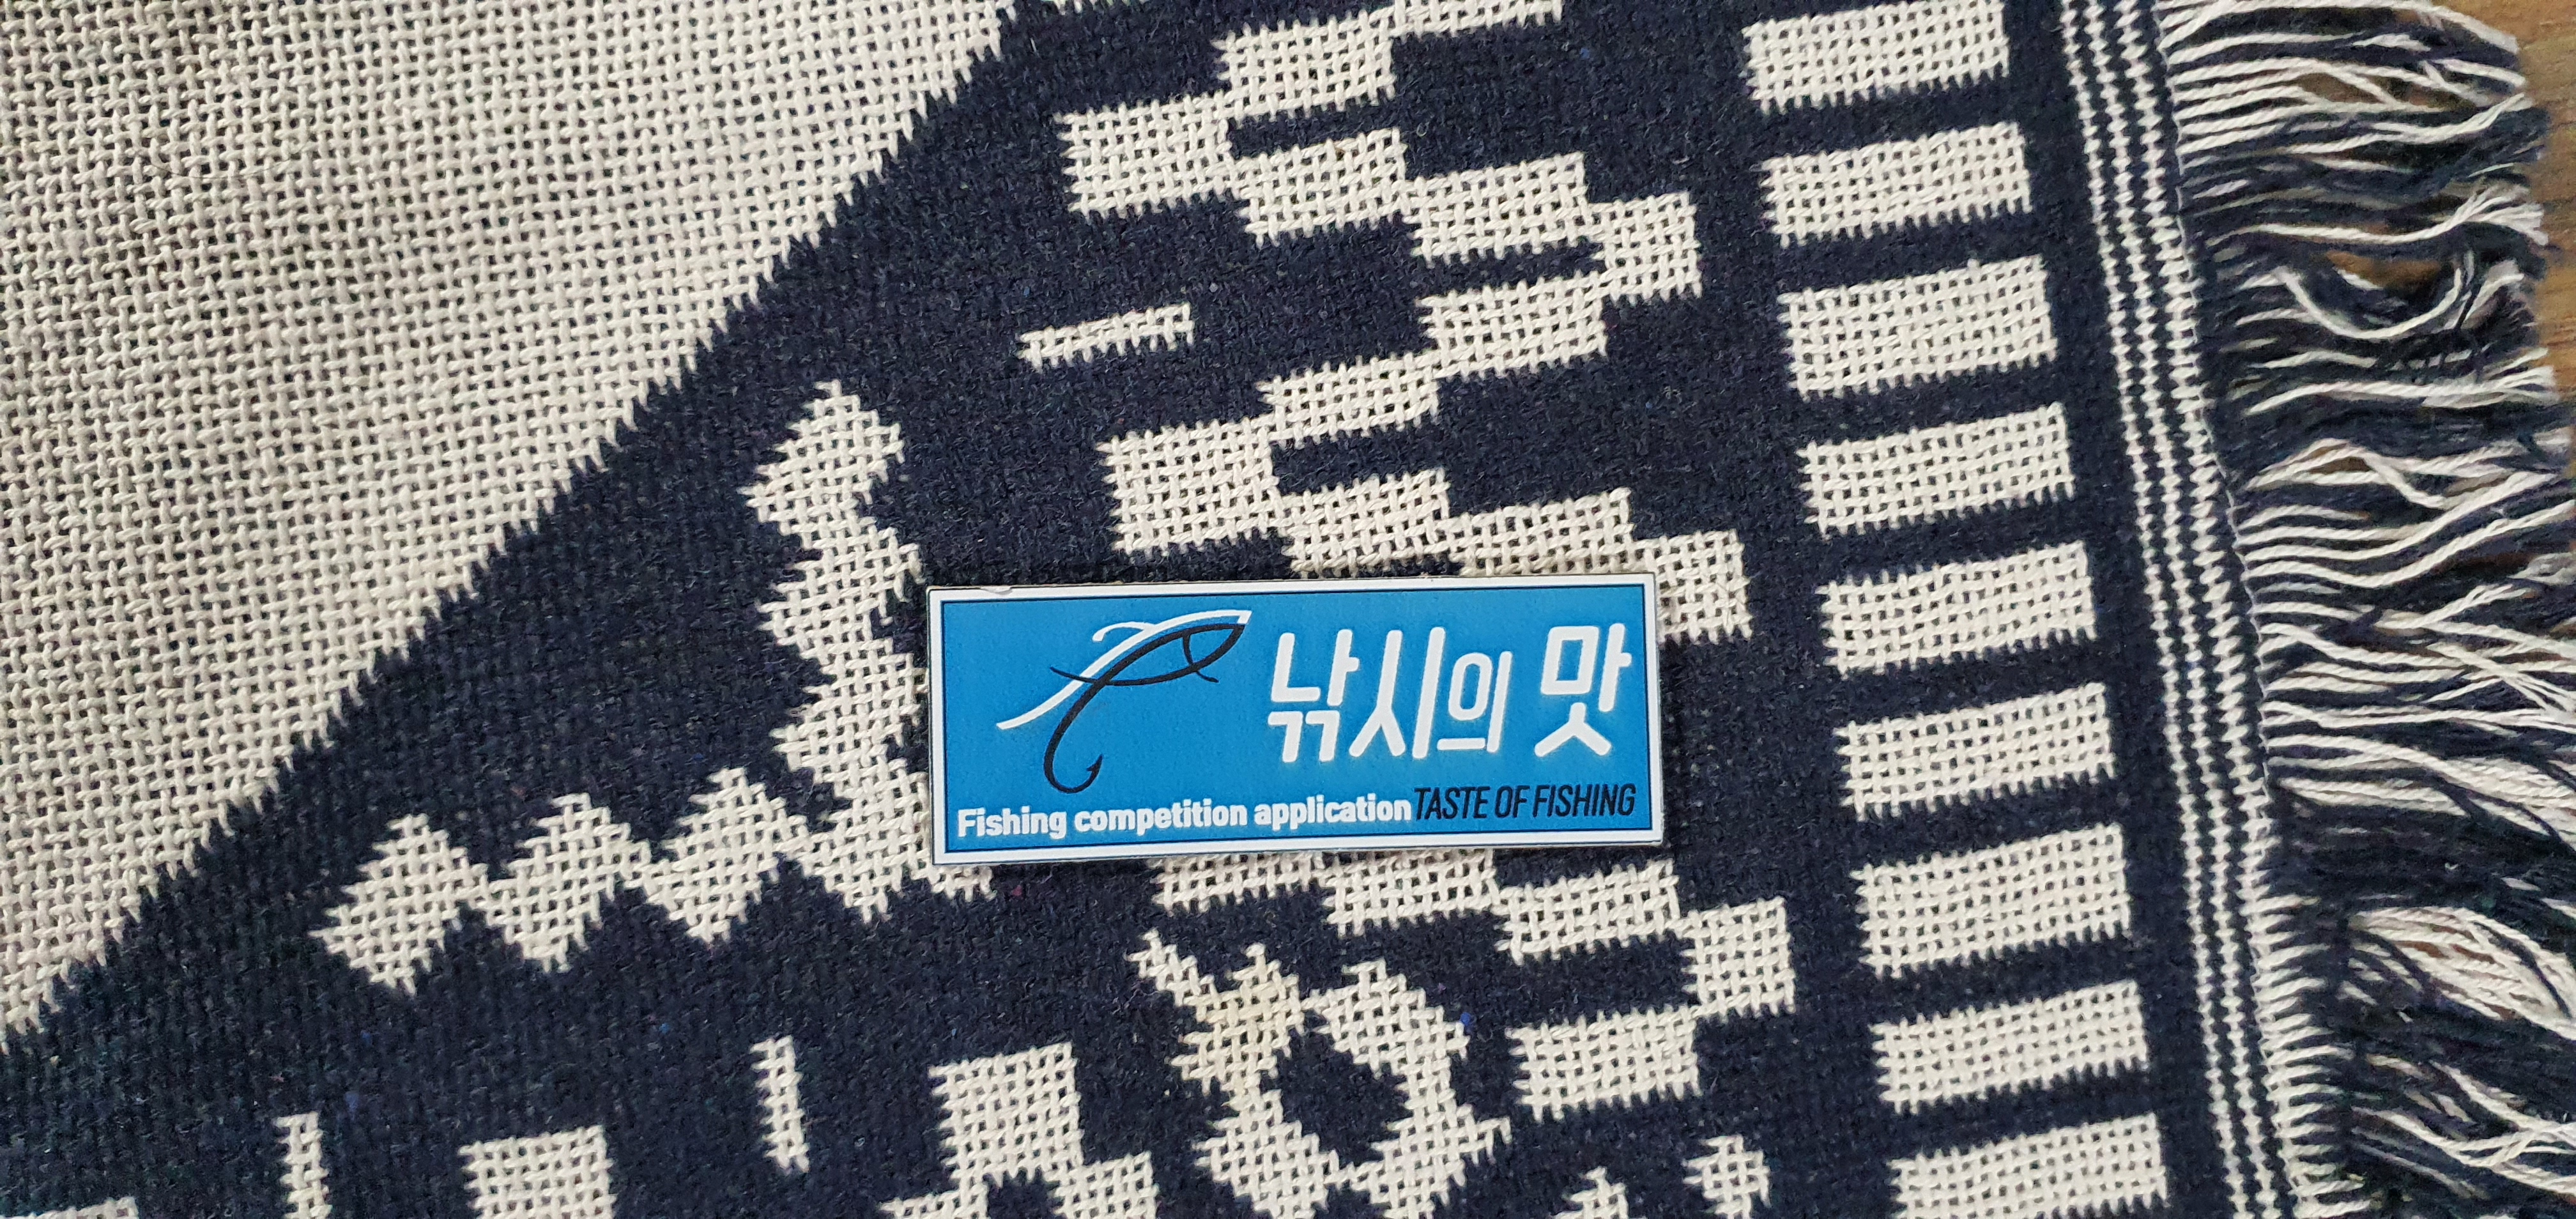tag: (927, 586, 1663, 844)
